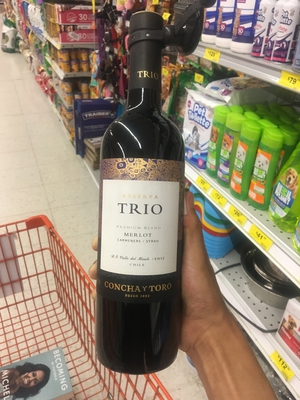trio merlot: (91, 17, 215, 375)
